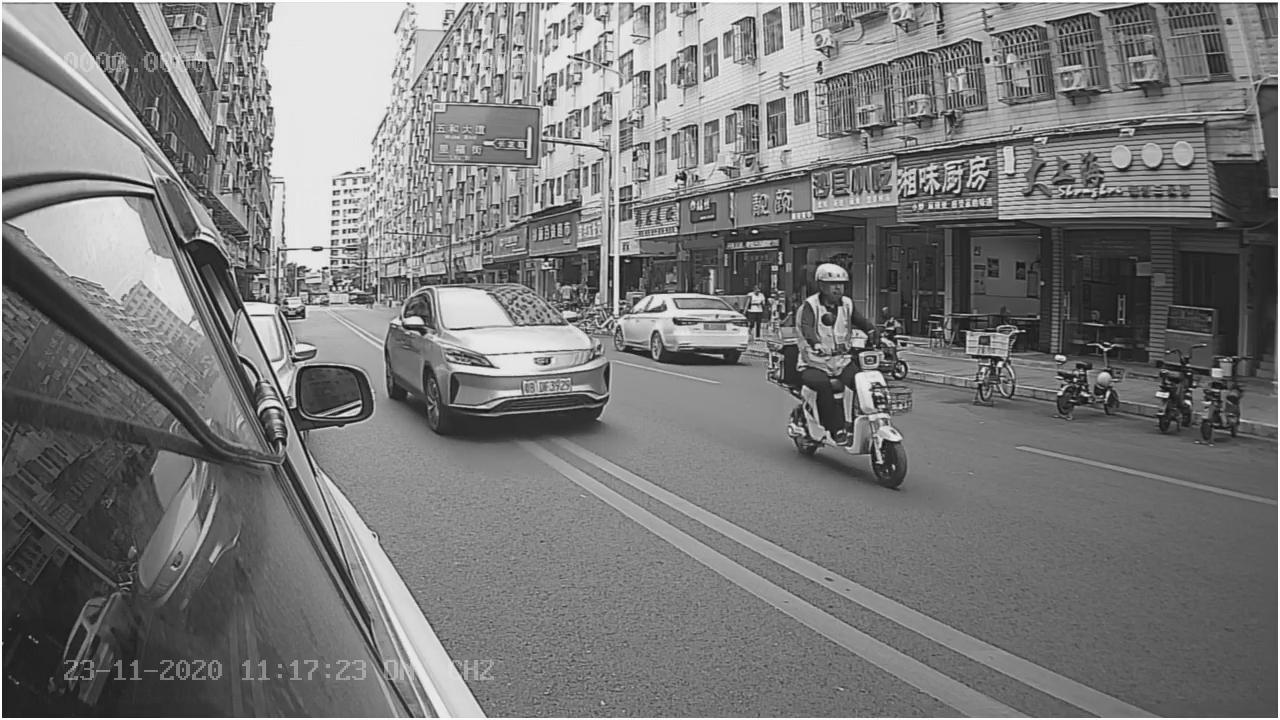person: (786, 257, 879, 351)
